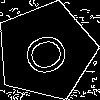O: (21, 26, 80, 80)
